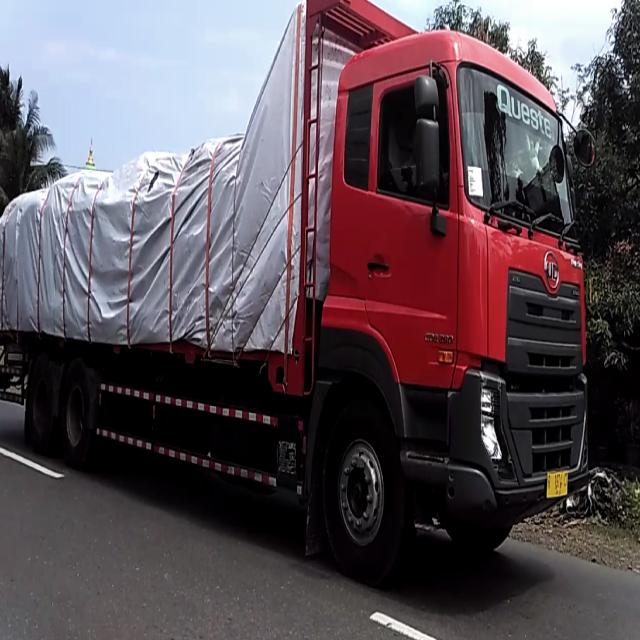truck: (1, 1, 594, 584)
